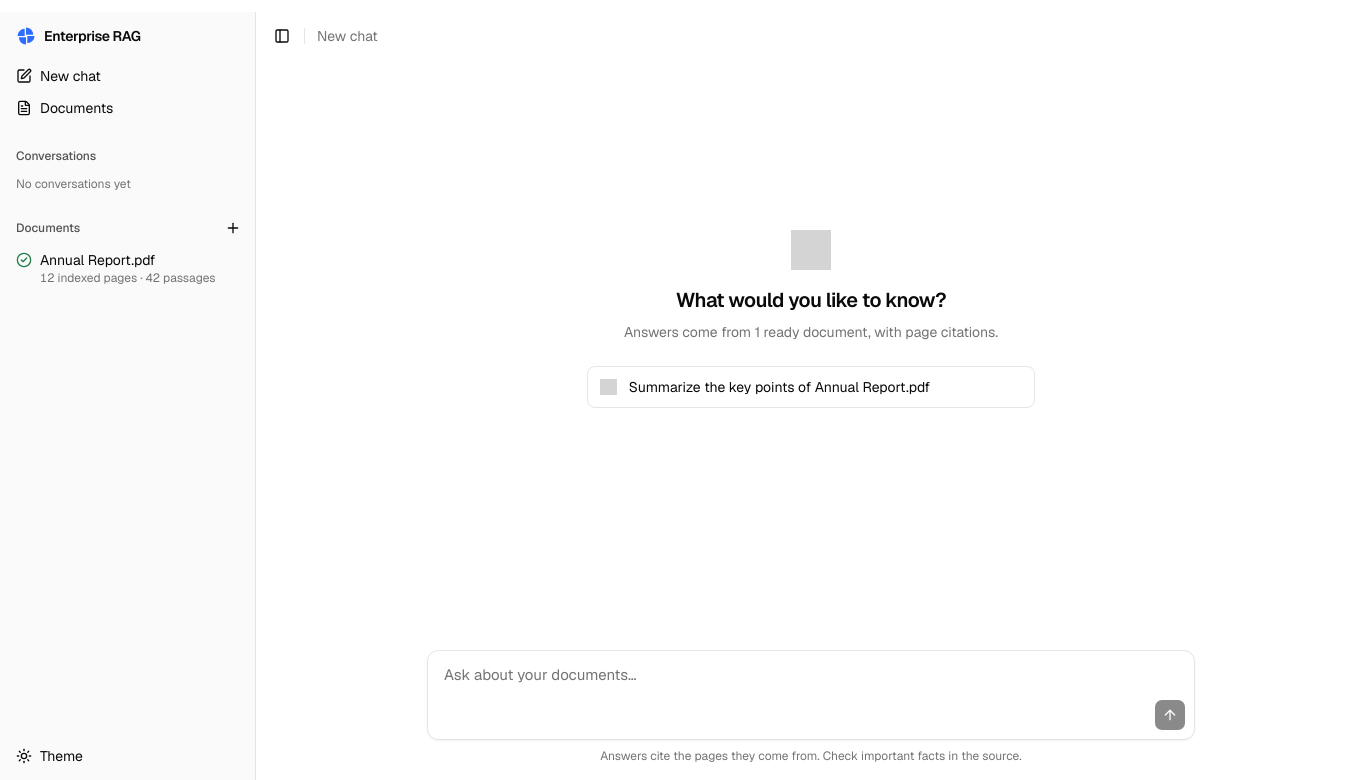
Test: shows a chat error with a retry
The width and height of the screenshot is (1366, 780).
Type "What was revenue?" into the text box named "Question" at x=811, y=675, box [428,651,1194,699]
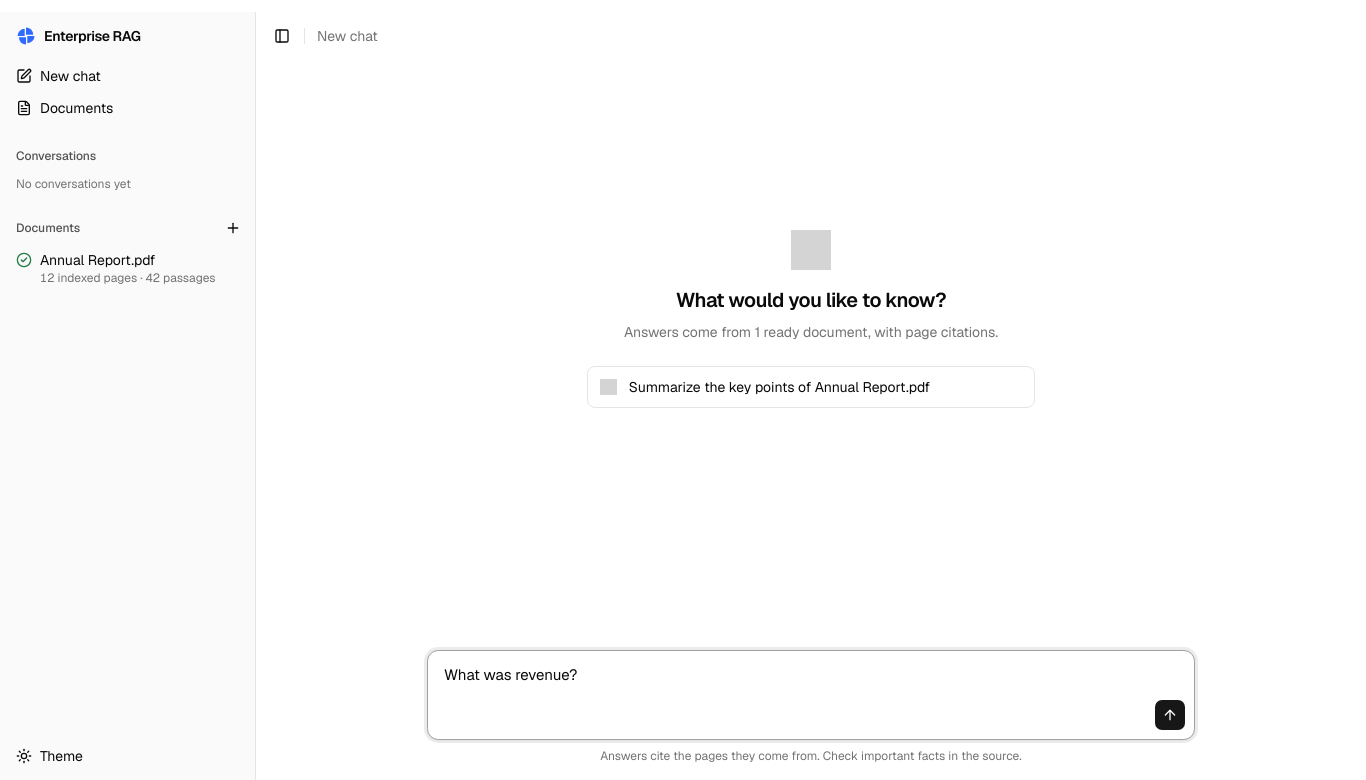
Press Enter
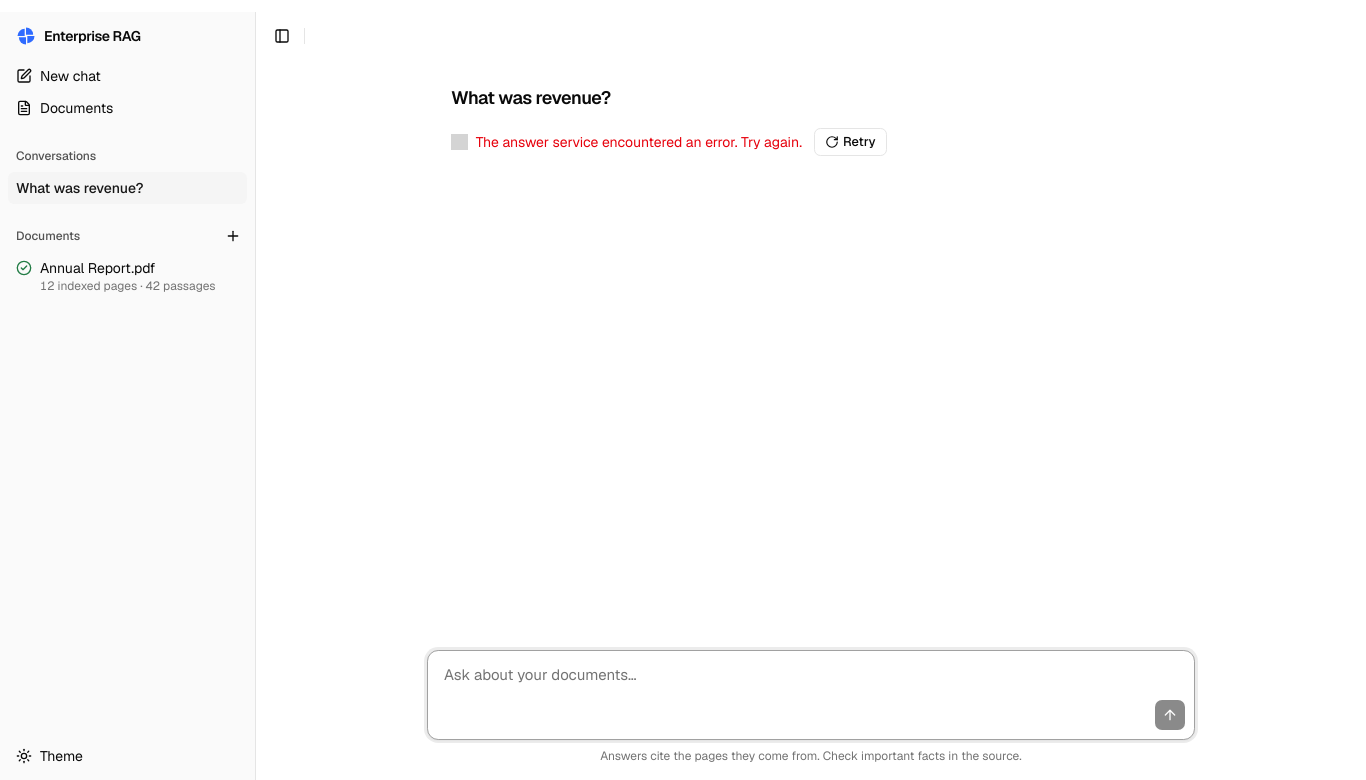
expect the message does not show "RuntimeError": met, box [451,128,887,156]
expect the message shows "The answer service encountered an error. Try again.": met, box [476,133,802,151]
Click the button "Retry" at x=850, y=142, box [814,128,887,156]
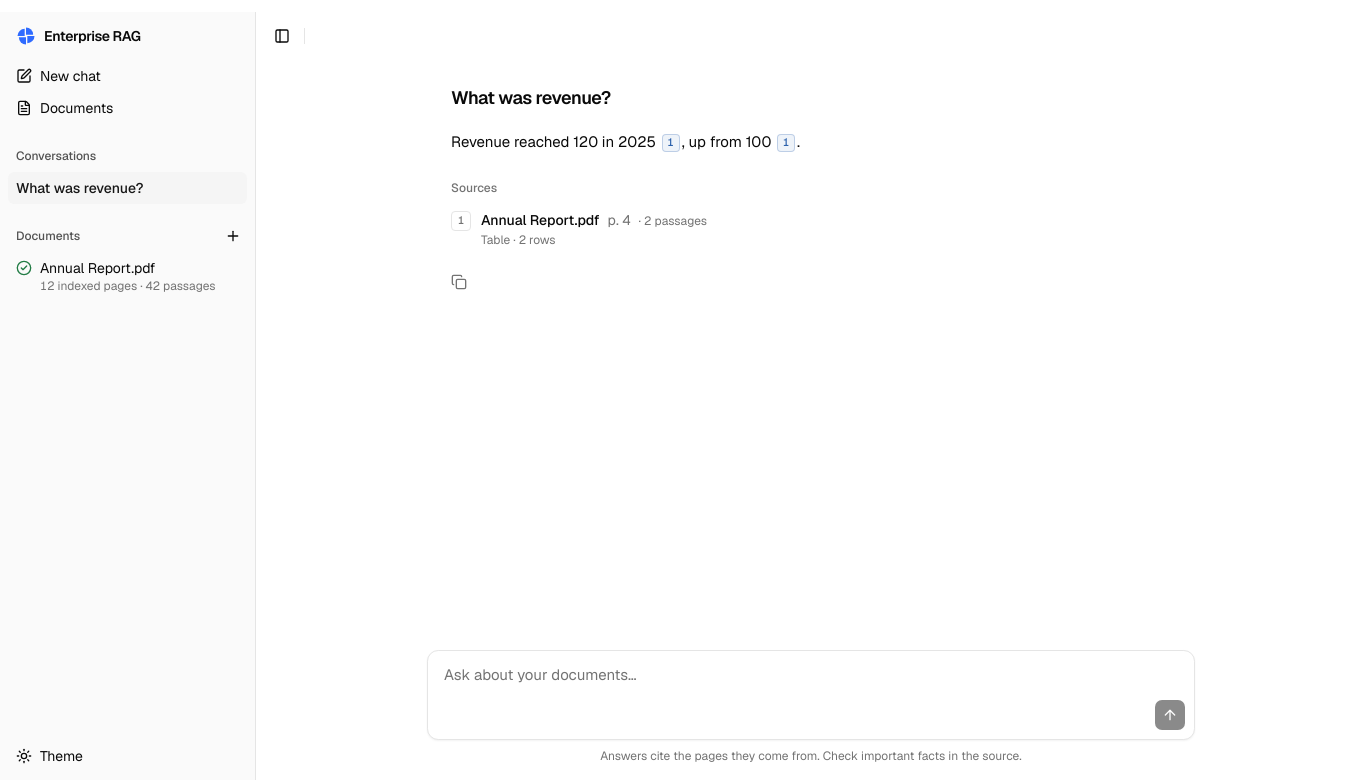
expect the element "Sources" is shown: met, box [451,180,1171,256]
